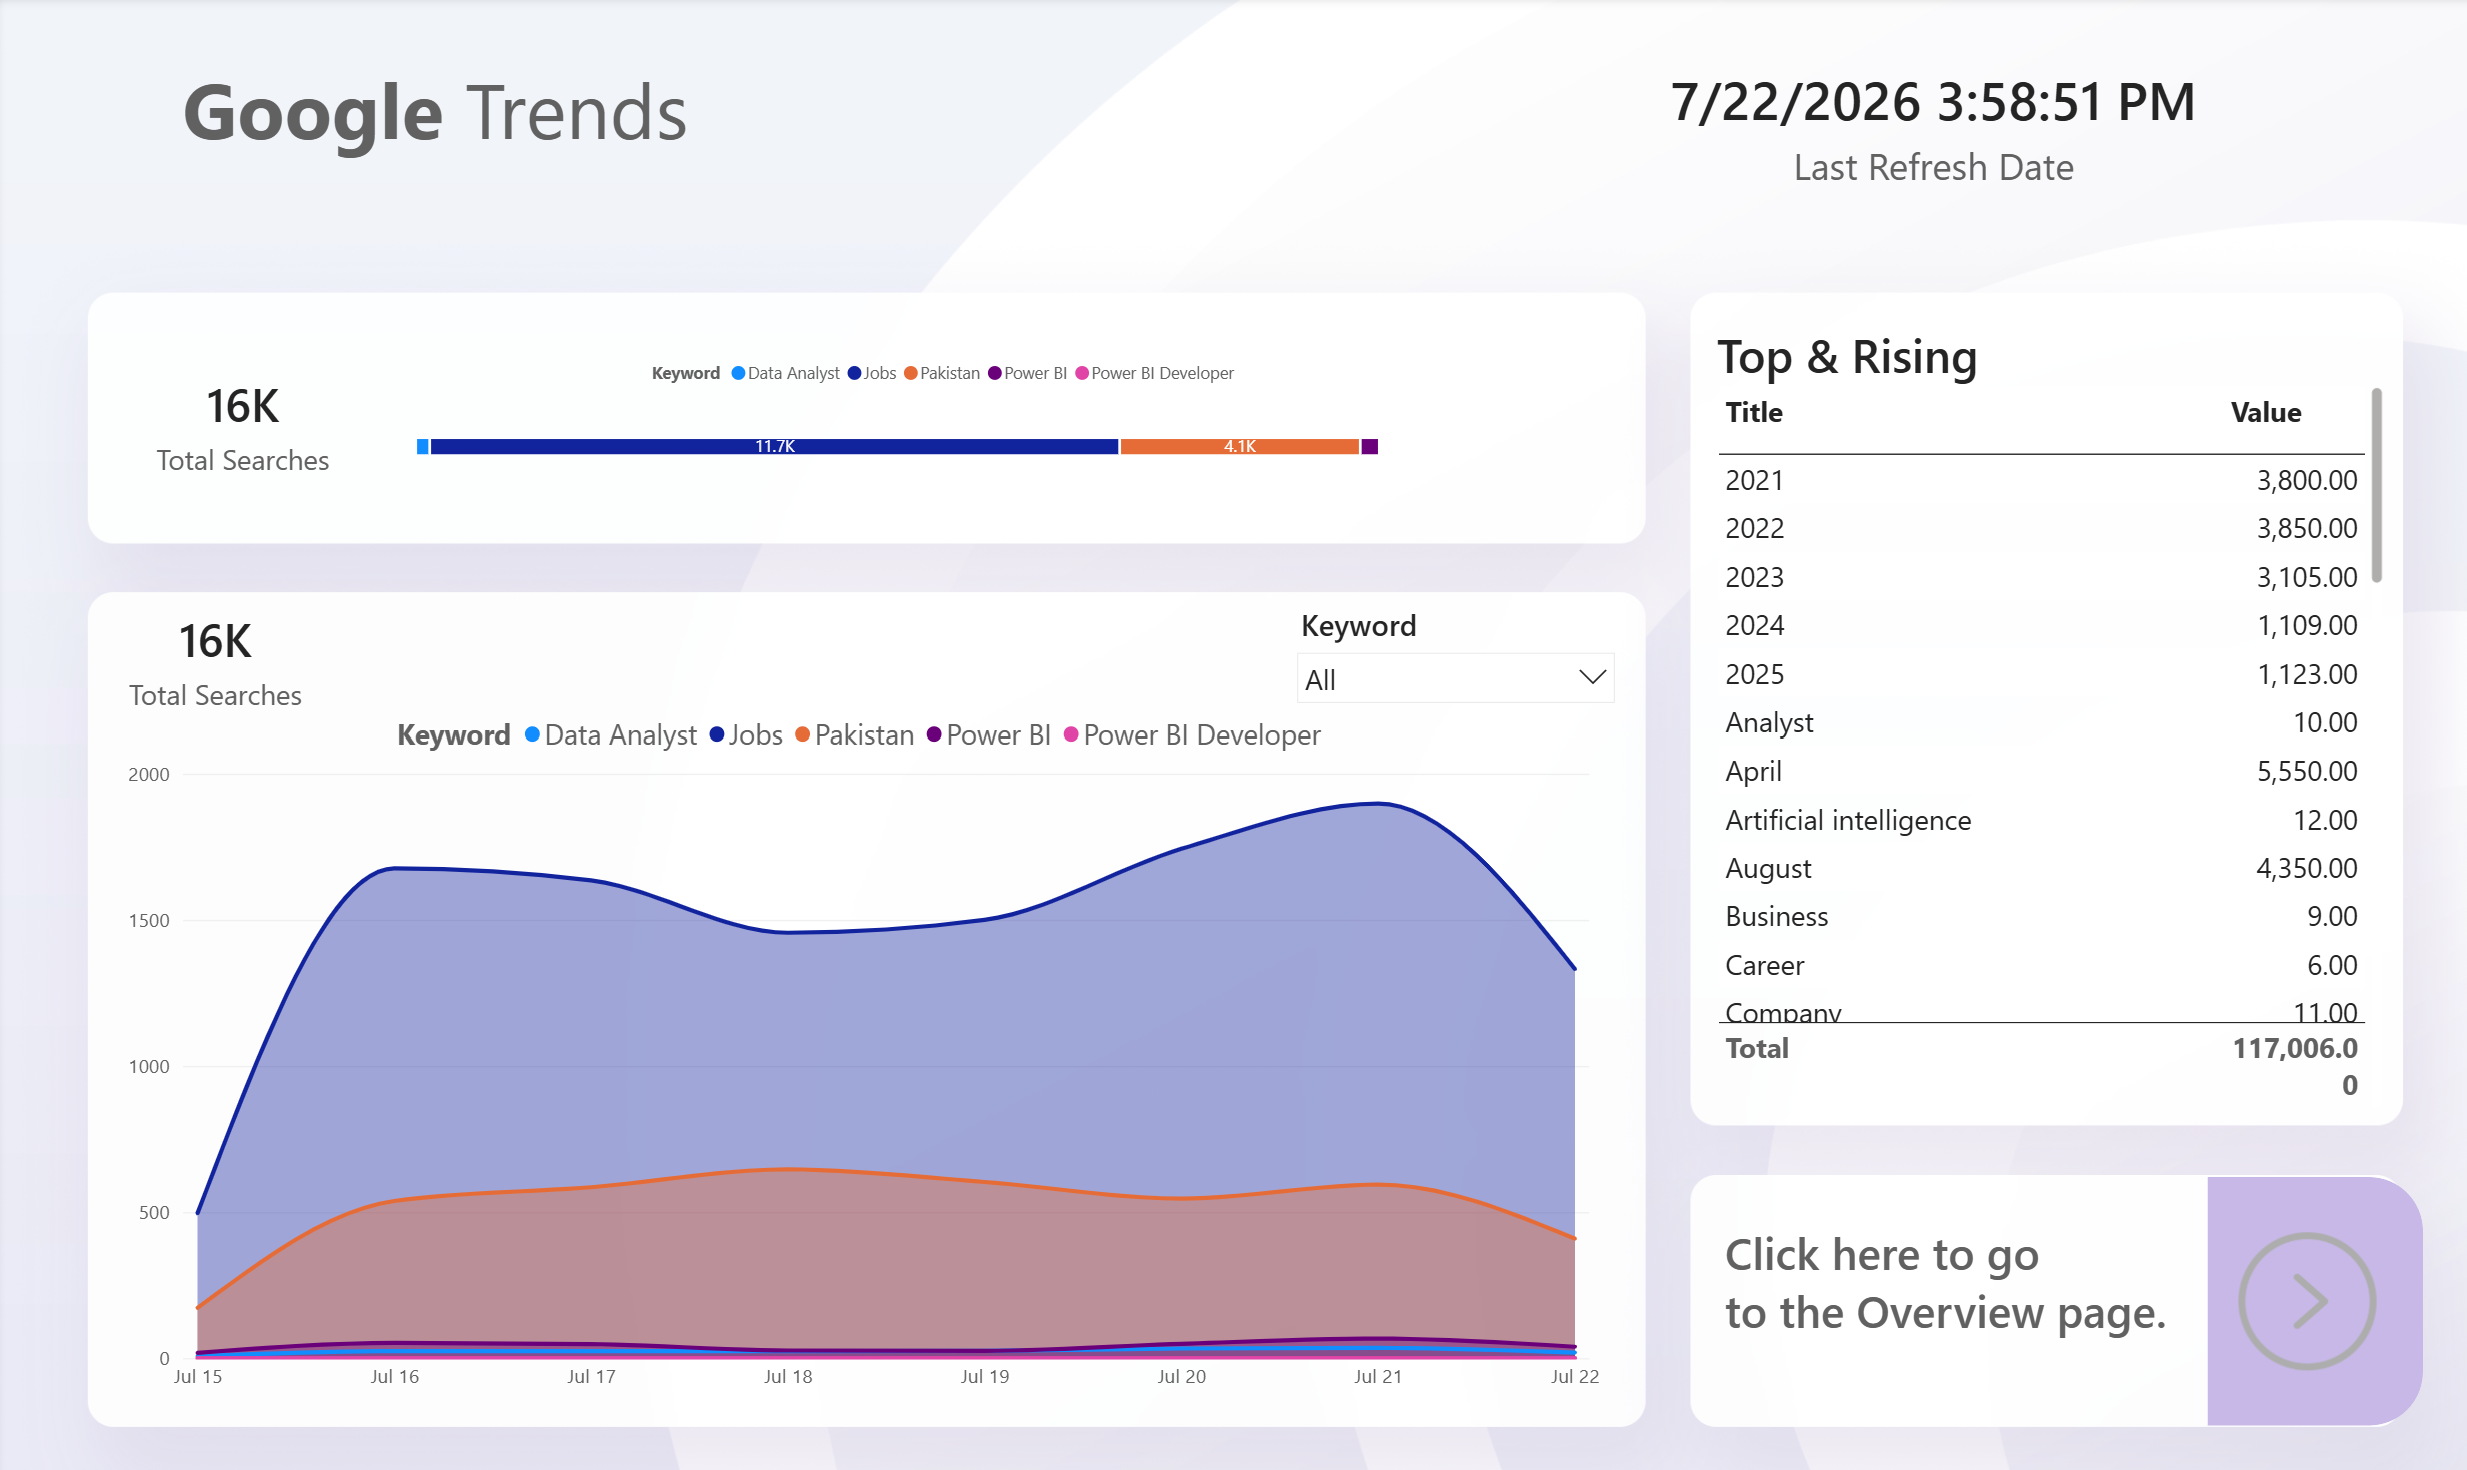

This screenshot's page, from the dashboard's own definition file:
{"tool":"powerbi","page":{"name":"Real-time","canvas":[1920,1080],"ordinal":3},"visuals":[{"type":"areaChart","fields":{"Category":["Past_7_Days_Searches.Date.Variation.Date Hierarchy.Year","Past_7_Days_Searches.Date.Variation.Date Hierarchy.Quarter","Past_7_Days_Searches.Date.Variation.Date Hierarchy.Month","Past_7_Days_Searches.Date.Variation.Date Hierarchy.Day"],"Y":["Past_7_Days_Searches.last_7_days_value"],"Series":["Past_7_Days_Searches.Keyword"]},"box":[196,502,1098,528],"z":0},{"type":"slicer","fields":{"Values":["Past_7_Days_Searches.Keyword"]},"box":[1054,440,240,78],"z":1000},{"type":"card","fields":{"Values":["Past_7_Days_Searches.last_7_days_value"]},"box":[196,414,160,132],"z":2000},{"type":"card","fields":{"Values":["Past_7_Days_Searches.last_7_days_value"]},"box":[216,244,160,132],"z":3000},{"type":"barChart","fields":{"Y":["Past_7_Days_Searches.last_7_days_value"],"Series":["Past_7_Days_Searches.Keyword"]},"box":[406,244,798,132],"z":4000},{"type":"tableEx","title":"Top & Rising","fields":{"Values":["Rising_Top.Column1.topic.title","Sum(Rising_Top.Value)"]},"box":[1346,222,514,598],"z":5000},{"type":"shape","box":[1368.4,853.2,406,180],"z":5001},{"type":"actionButton","box":[1718,854,156,180],"z":5002},{"type":"textbox","box":[1368,886,350,148],"z":5003},{"type":"textbox","box":[252,44,520,100],"z":5005},{"type":"card","fields":{"Values":["Min(Refresh_Date.Date)"]},"box":[1118,18,802,150],"z":5006}]}

Visuals, with their boxes on the page's 1920x1080 design canvas (x1, y1, x2, y2). These are canvas units, not pixel positions in the 2467x1470 screenshot, which may show the page scaled, cropped or inside an application window:
areaChart - Past_7_Days_Searches.Date.Variation.Date Hierarchy.Year x Past_7_Days_Searches.Date.Variation.Date Hierarchy.Quarter: crop(196, 502, 1294, 1030)
slicer - Past_7_Days_Searches.Keyword: crop(1054, 440, 1294, 518)
card - Past_7_Days_Searches.last_7_days_value: crop(196, 414, 356, 546)
card - Past_7_Days_Searches.last_7_days_value: crop(216, 244, 376, 376)
barChart - Past_7_Days_Searches.last_7_days_value x Past_7_Days_Searches.Keyword: crop(406, 244, 1204, 376)
"Top & Rising" tableEx: crop(1346, 222, 1860, 820)
shape: crop(1368, 853, 1774, 1033)
actionButton: crop(1718, 854, 1874, 1034)
textbox: crop(1368, 886, 1718, 1034)
textbox: crop(252, 44, 772, 144)
card - Min(Refresh_Date.Date): crop(1118, 18, 1920, 168)
